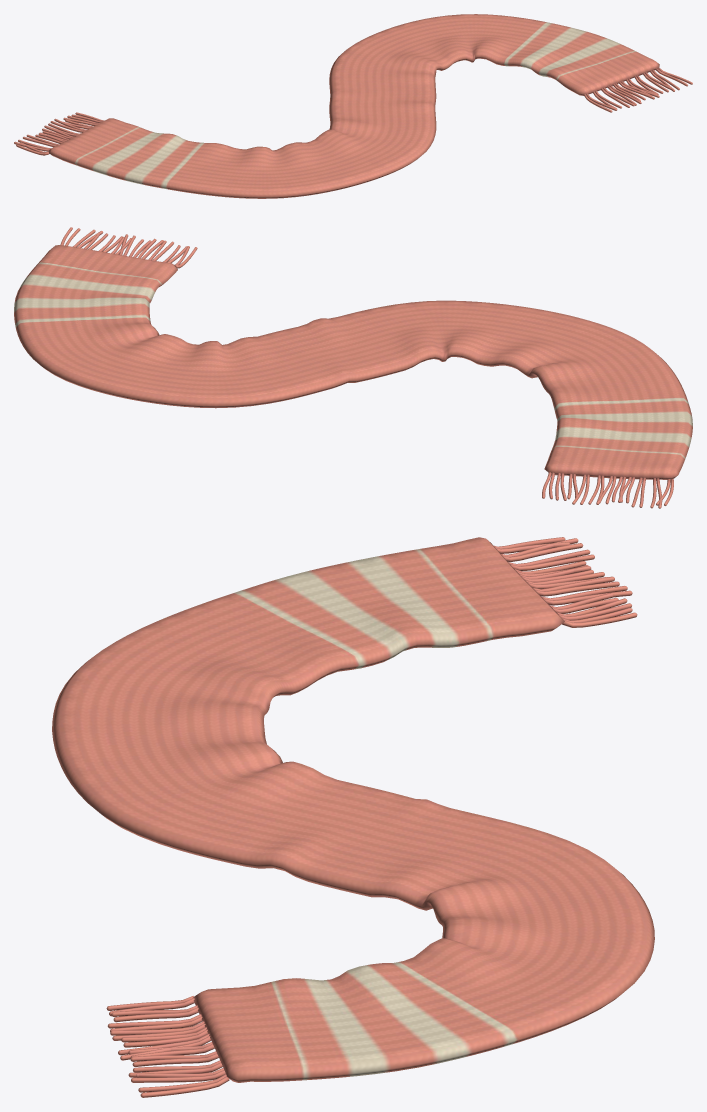
File: scarf.glb
3 views of the same model, one above another, from view 1: azimuth 30°, elevation 25°; view 2: azimuth 150°, elevation 25°; view 3: azimuth 270°, elevation 25° (orthographic). The views are drawn at different scales.
Visible parts, largest first — view 1: scarf_body; view 2: scarf_body; view 3: scarf_body.
Part boxes in pixels (x1,y1,x2,y2): scarf_body: [14, 14, 692, 198]; scarf_body: [14, 227, 692, 508]; scarf_body: [52, 537, 654, 1097].
Bounding box in the file's own units: 1.18 × 0.0243 × 0.5404.
1 material, 1 textured.
